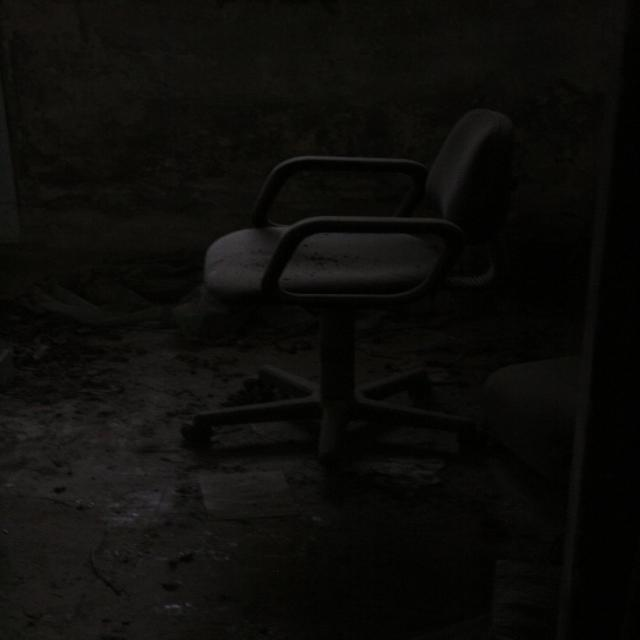chair: (167, 105, 564, 519)
